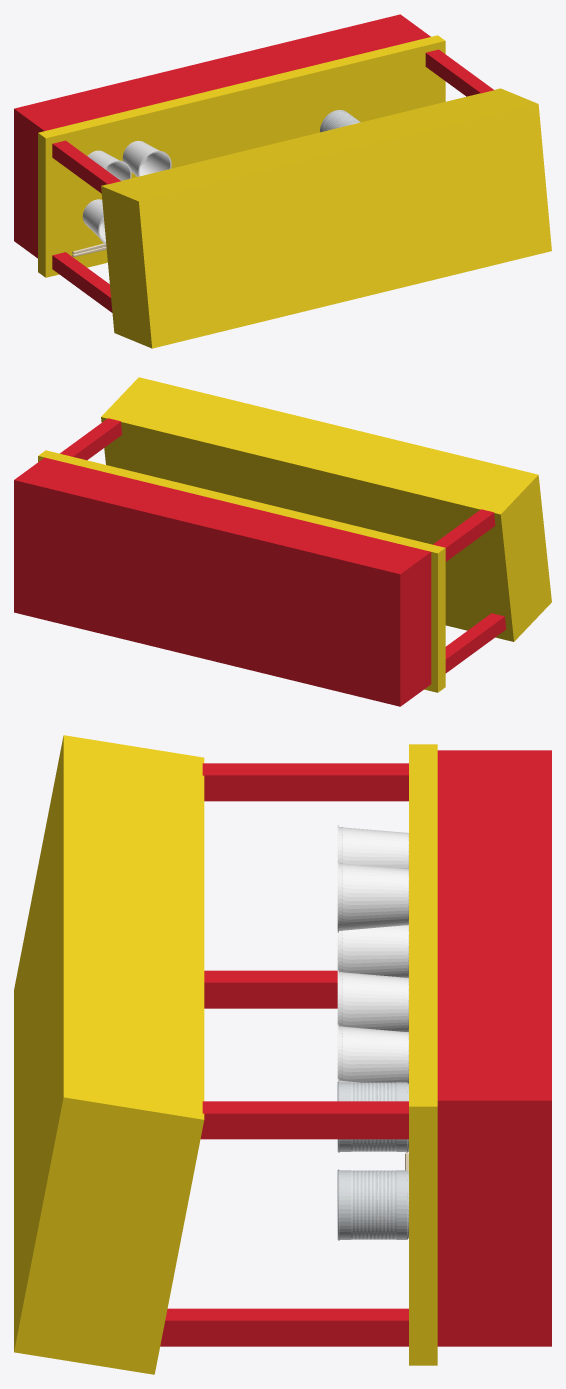
File: Yatai.obj
3 renders of one model, top to bottom at view 1: azimuth 30°, elevation 25°; view 2: azimuth 150°, elevation 25°; view 3: azimuth 270°, elevation 25°, orthographic. The views are drawn at different scales.
Visible parts, largest first — view 1: group_0_16768282, group_0_15277357, group_0_16448250, group_0_14541540; view 2: group_0_15277357, group_0_16768282; view 3: group_0_16768282, group_0_15277357, group_0_16448250, group_0_14541540.
Boxes of the visible parts, box(x1,y1,x2,y2) form: group_0_16768282: box(38, 35, 551, 348); group_0_15277357: box(14, 14, 494, 312); group_0_16448250: box(82, 140, 171, 243); group_0_14541540: box(320, 110, 360, 132); group_0_15277357: box(14, 418, 506, 706); group_0_16768282: box(38, 377, 551, 692); group_0_16768282: box(14, 735, 437, 1374); group_0_15277357: box(160, 750, 551, 1346); group_0_16448250: box(337, 825, 408, 1083); group_0_14541540: box(337, 1081, 408, 1240).
Bounding box in the file's own units: 60 × 21.43 × 37.66.
